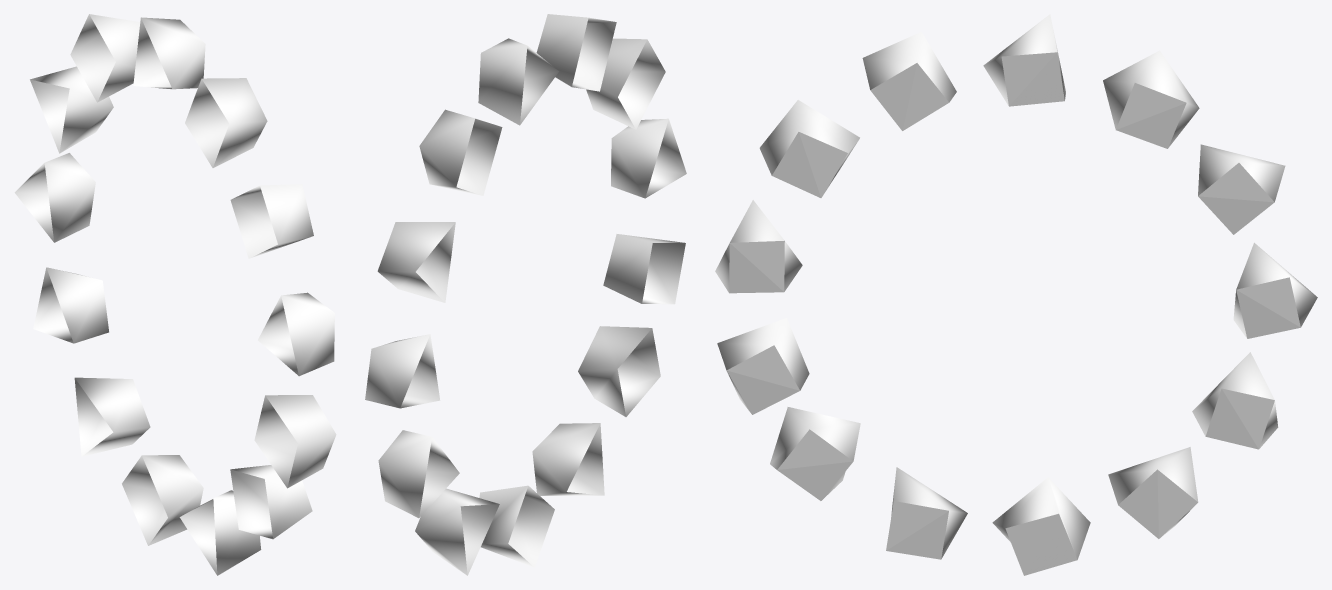
3 renders of one model, left to right at view 1: azimuth 30°, elevation 25°; view 2: azimuth 150°, elevation 25°; view 3: azimuth 270°, elevation 25°, orthographic. The views are drawn at different scales.
Bounding box in the file's own units: 0.0127 × 0.1487 × 0.1465.
Materials: 1 (1 with a texture image).
